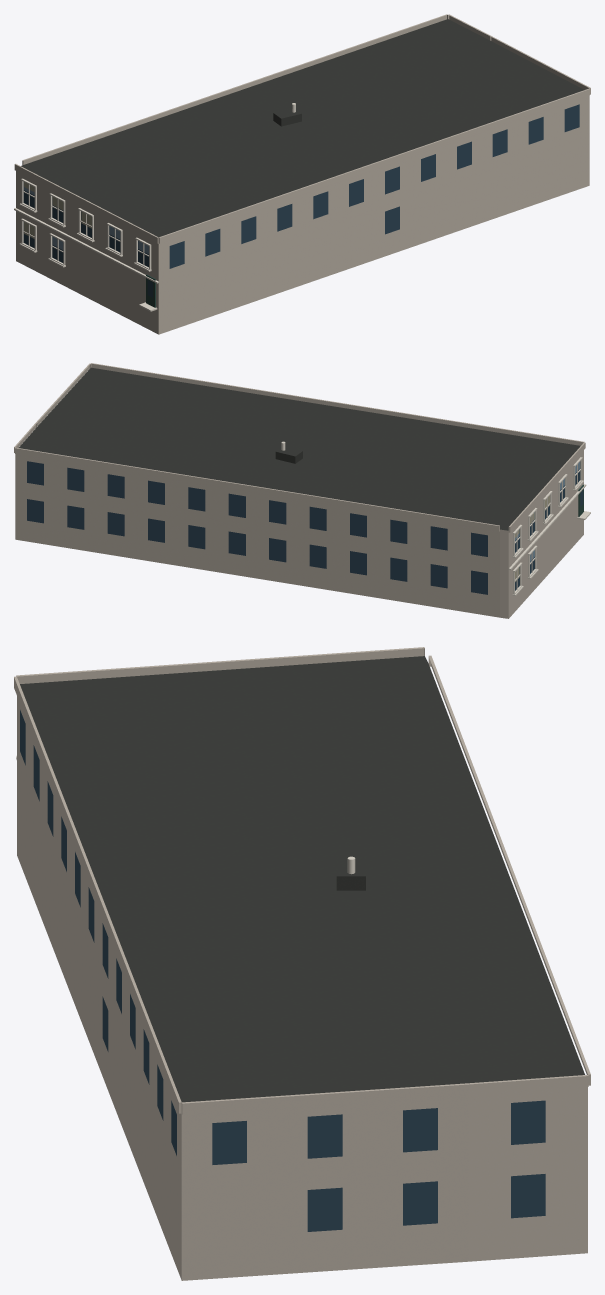
3 views of the same model, one above another, from view 1: azimuth 30°, elevation 25°; view 2: azimuth 150°, elevation 25°; view 3: azimuth 270°, elevation 25° (orthographic). The views are drawn at different scales.
Visible parts, largest first — view 1: Footprint 0 / surface 1, Footprint 0 / surface 2, Facade bay volumes, Inset glazing, Cornices and window frames; view 2: Footprint 0 / surface 1, Footprint 0 / surface 2, Inset glazing, Facade bay volumes, Cornices and window frames; view 3: Footprint 0 / surface 1, Footprint 0 / surface 2, Facade bay volumes, Inset glazing.
Part boxes in pixels (box(x1,y1,x2,y2)): Footprint 0 / surface 1: box(21, 19, 584, 237); Footprint 0 / surface 2: box(16, 95, 589, 334); Facade bay volumes: box(14, 14, 590, 243); Inset glazing: box(23, 104, 579, 297); Cornices and window frames: box(14, 178, 158, 311); Footprint 0 / surface 1: box(19, 367, 580, 530); Footprint 0 / surface 2: box(15, 450, 583, 618); Inset glazing: box(27, 461, 583, 594); Facade bay volumes: box(14, 363, 585, 532); Cornices and window frames: box(508, 457, 590, 595); Footprint 0 / surface 1: box(20, 656, 584, 1102); Footprint 0 / surface 2: box(17, 696, 587, 1280); Facade bay volumes: box(14, 647, 590, 1114); Inset glazing: box(20, 710, 545, 1231).
Bounding box in the file's own units: 44.28 × 9.01 × 23.62.
